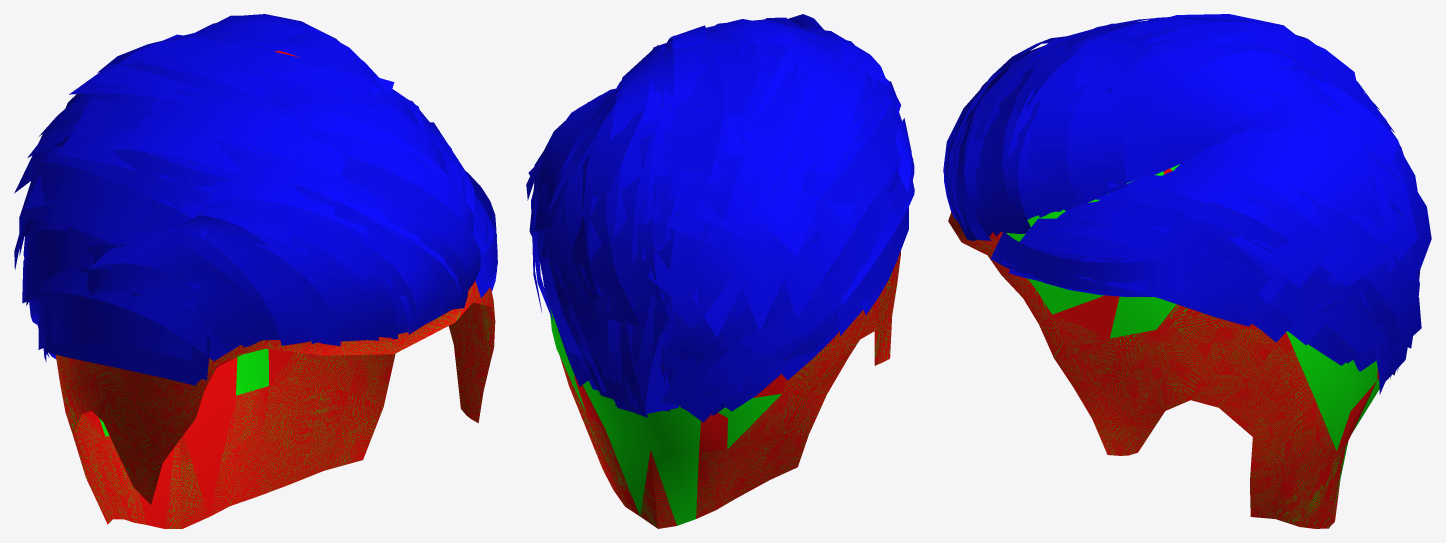
The model's file is hair_011.obj.
3 renders of one model, left to right at view 1: azimuth 30°, elevation 25°; view 2: azimuth 150°, elevation 25°; view 3: azimuth 270°, elevation 25°, orthographic. The views are drawn at different scales.
Size of the model in its own units: 17.94 by 22.91 by 20.93.
